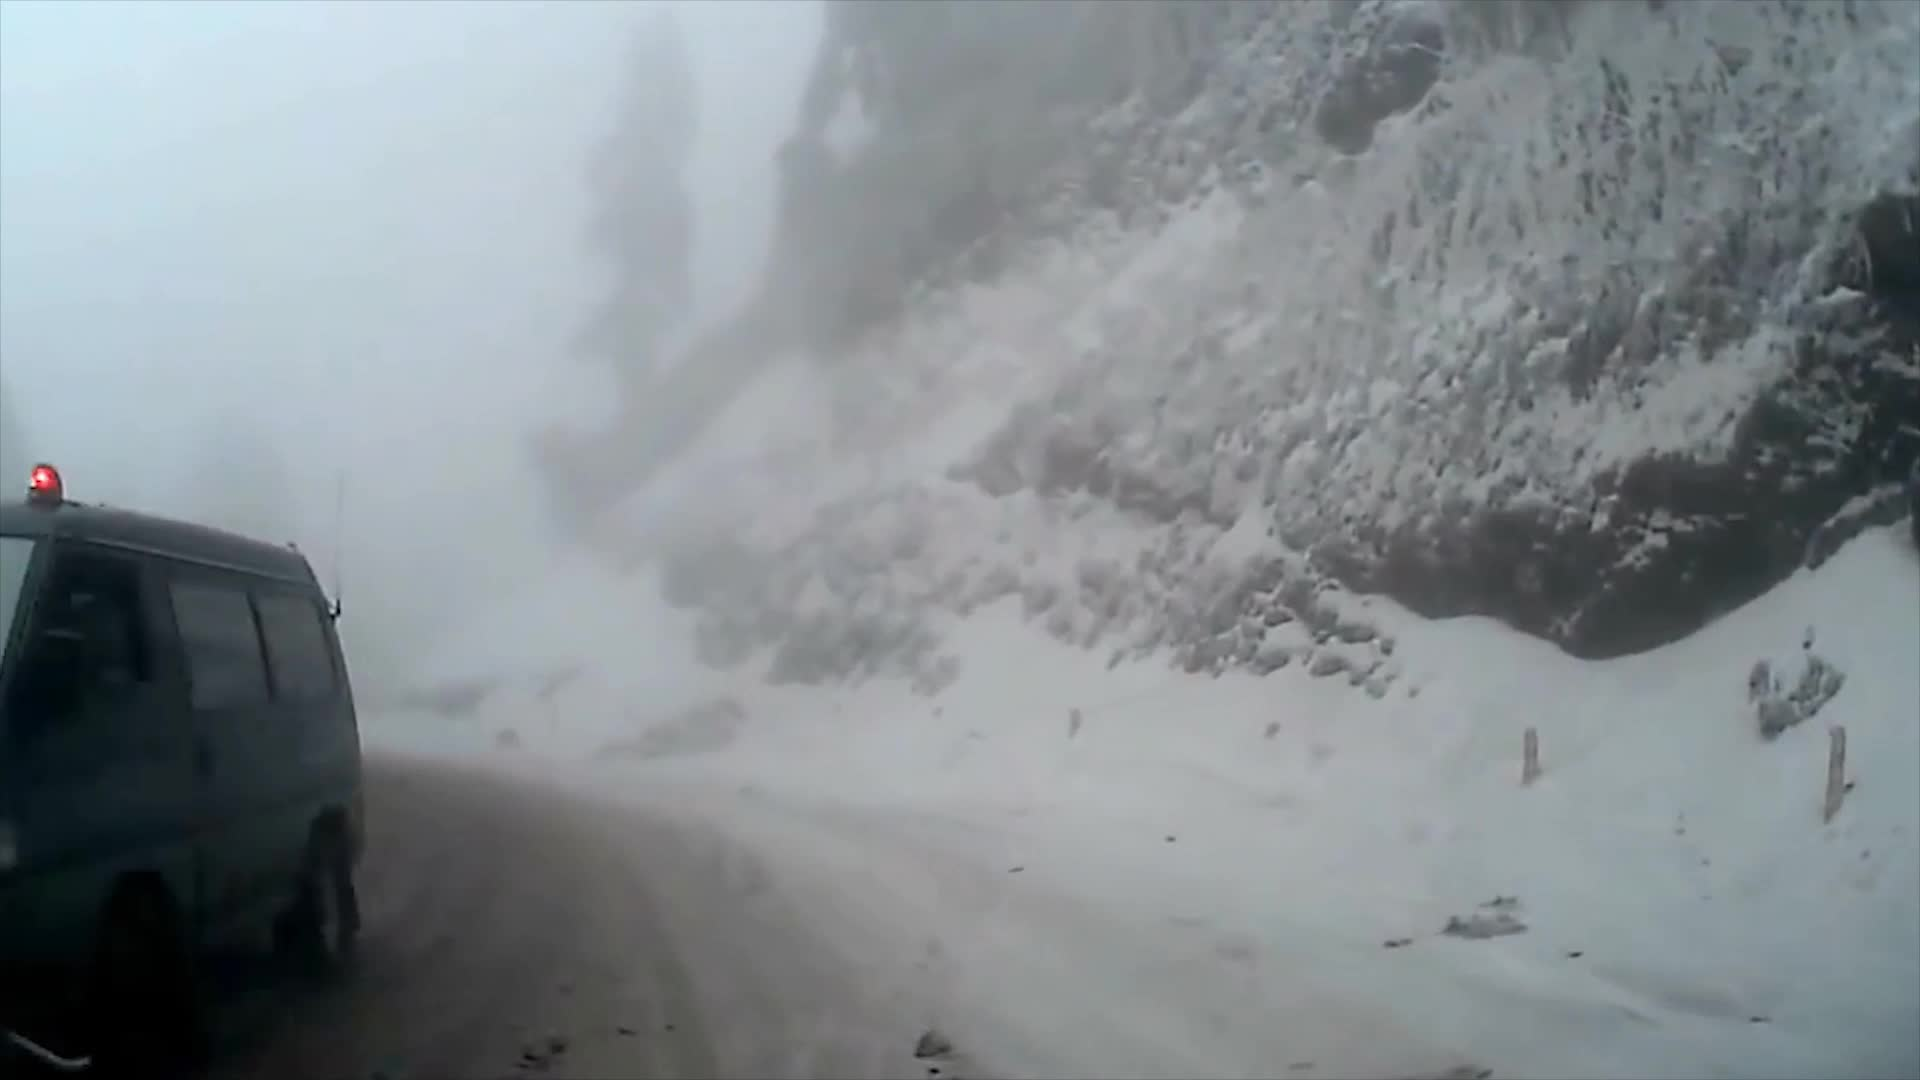vehicle: (0, 462, 367, 1080)
